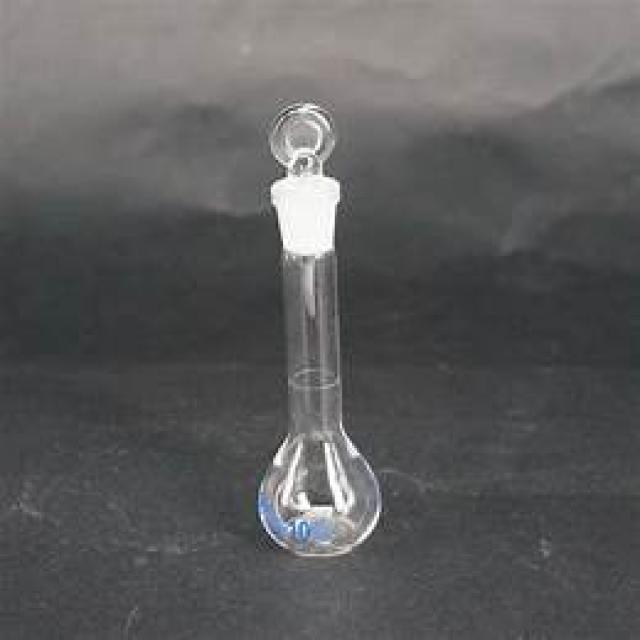Volumetric flask: (248, 95, 395, 557)
